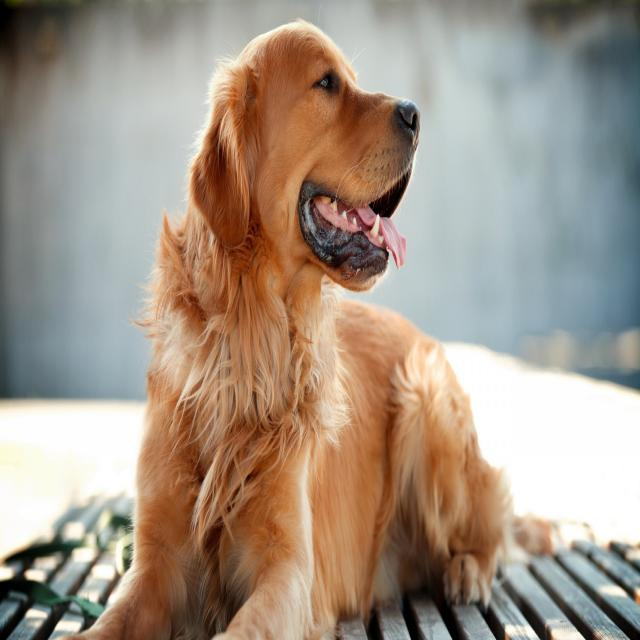laying down: (48, 12, 594, 640)
